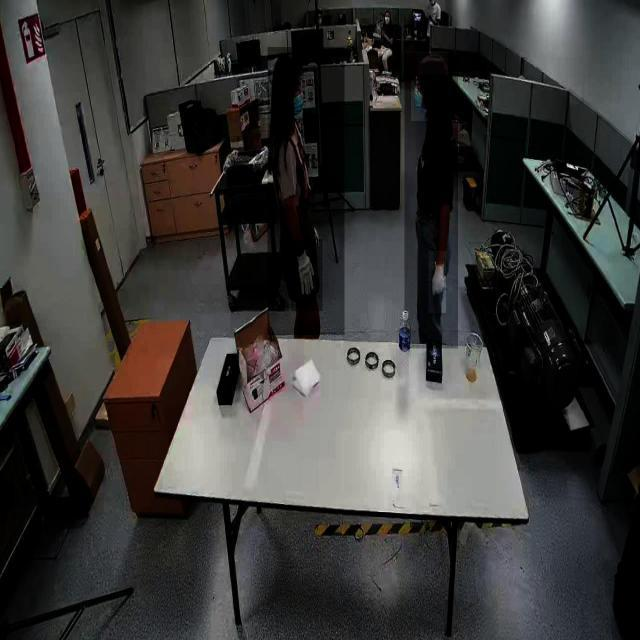gloves: (291, 239, 323, 312), (428, 250, 446, 314), (381, 10, 393, 26)
